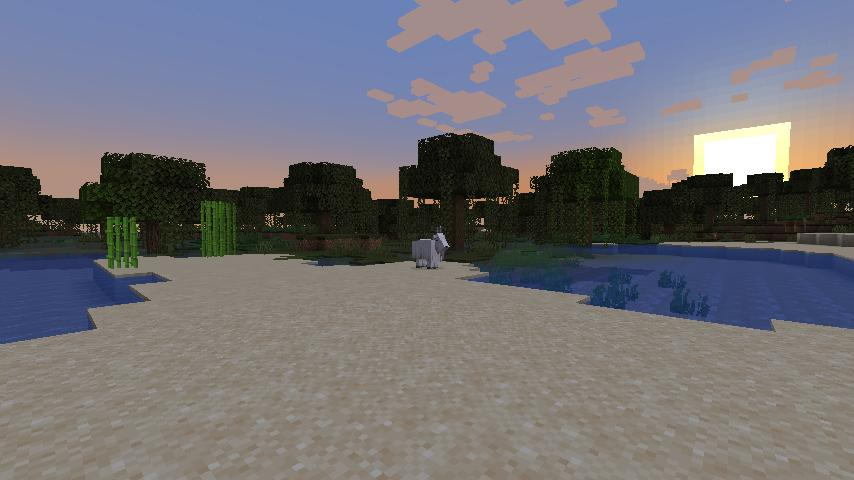goat: (411, 225, 449, 270)
